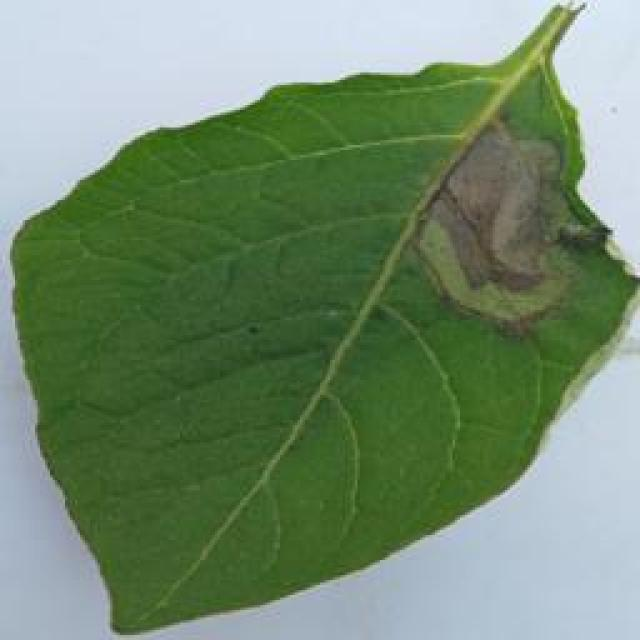Potato_Late_Blight: (12, 25, 640, 630)
